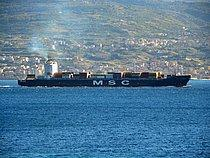Ship: (17, 67, 194, 91)
